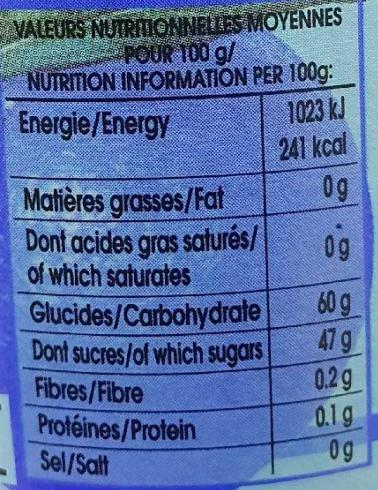column: (20, 109, 263, 475), (279, 98, 353, 463)
line: (25, 226, 352, 291), (20, 104, 351, 158), (25, 179, 349, 211), (35, 406, 353, 438), (30, 336, 353, 362), (14, 39, 349, 64), (31, 373, 352, 399), (36, 446, 356, 471), (22, 65, 351, 89), (12, 12, 350, 35), (30, 298, 349, 322)
table: (1, 9, 373, 478)
